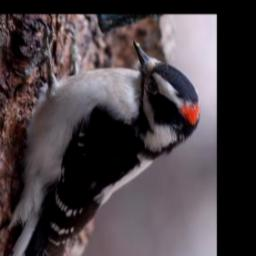Woodpecker: (0, 35, 205, 256)
